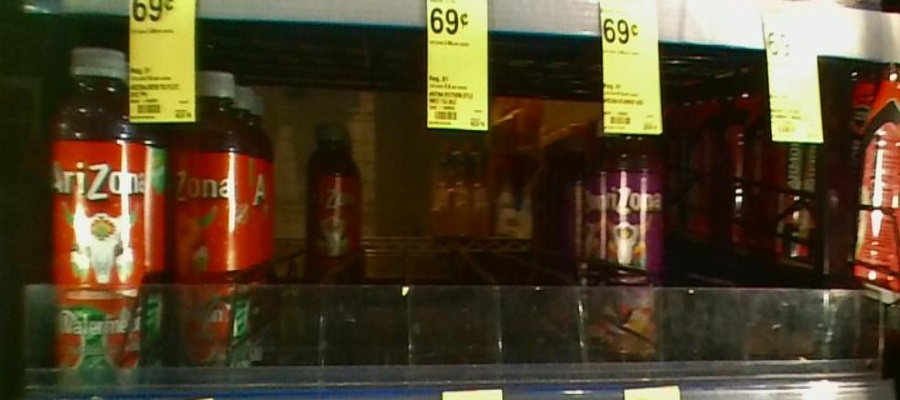bottle: (46, 41, 151, 391), (172, 65, 252, 391), (603, 111, 672, 371), (311, 115, 361, 274)
